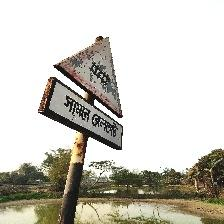Rail-crossing: (38, 36, 124, 151)
